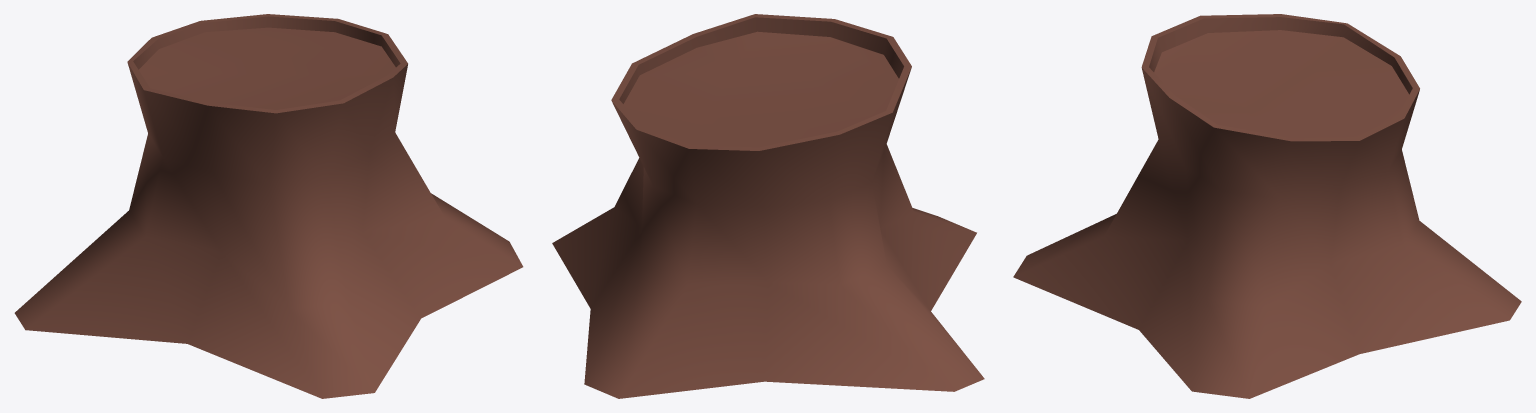
Rendered from Stump2_low.fbx.
The picture shows the model from 3 angles, left to right: view 1: azimuth 30°, elevation 25°; view 2: azimuth 150°, elevation 25°; view 3: azimuth 270°, elevation 25°; orthographic projection. The views are drawn at different scales.
Parts seen in each view (by area): view 1: Stump2; view 2: Stump2; view 3: Stump2.
Boxes of the visible parts, x1,y1,x2,y2 form: Stump2: (14,14,523,398); Stump2: (552,14,984,398); Stump2: (1013,14,1521,398).
Size of the model in its own units: 4.94 by 4.93 by 2.44.
